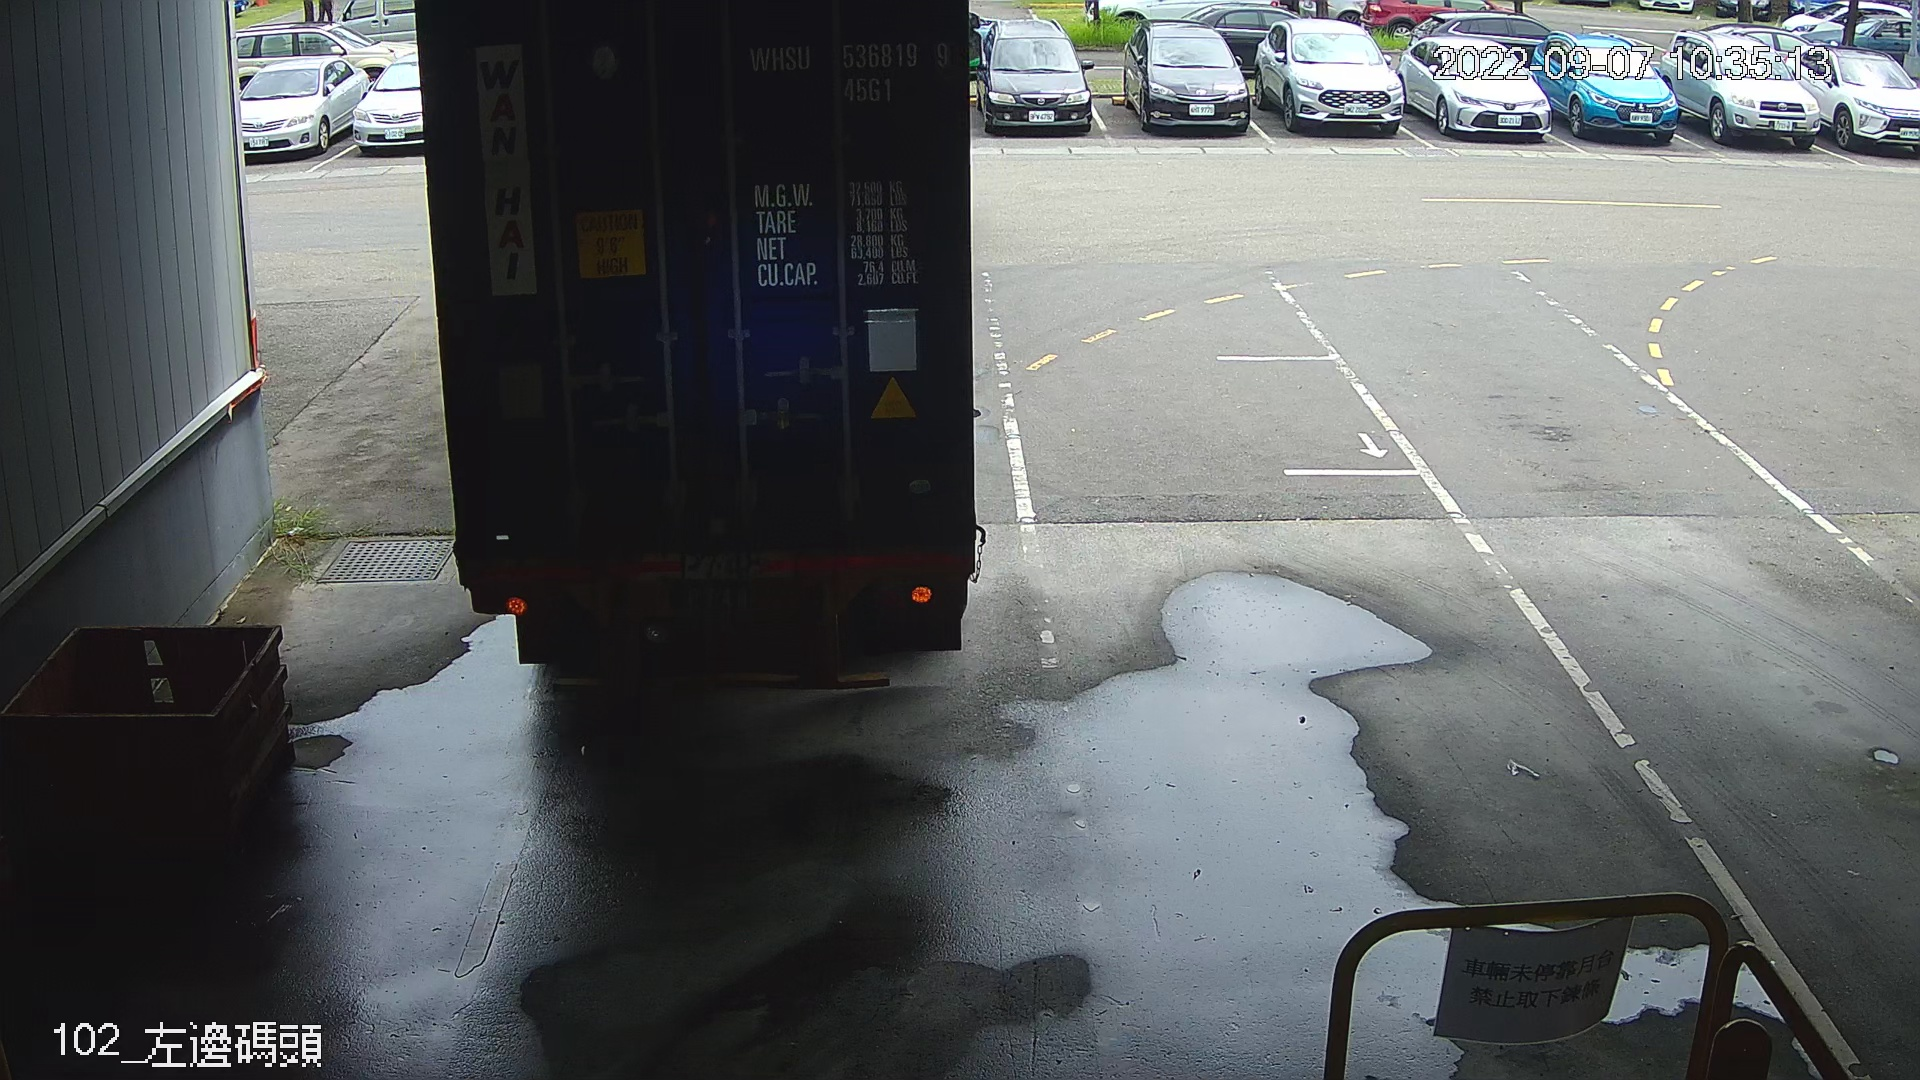container: (742, 33, 956, 111)
